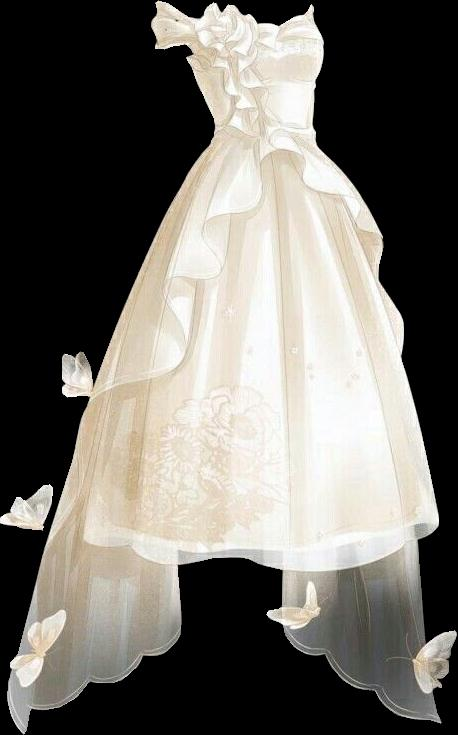Bodice: (186, 2, 323, 138)
Hemline: (44, 147, 409, 541), (69, 520, 443, 577), (22, 625, 183, 734), (280, 622, 446, 723)
Neckline: (195, 4, 314, 31)
Skirt: (7, 130, 440, 733)
Sleeve: (151, 1, 198, 53)
Sleeveline: (187, 16, 202, 54)
Waistline: (211, 125, 316, 141)
